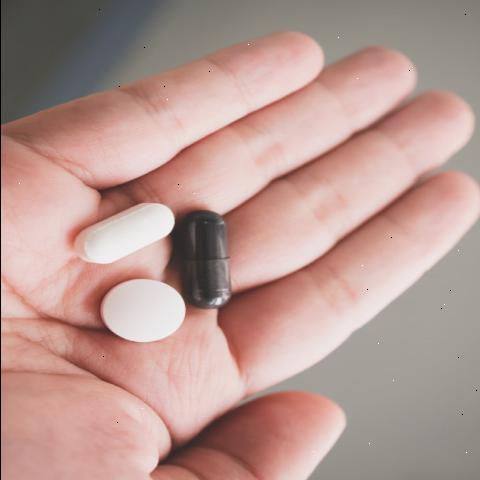Pill: (48, 192, 181, 264), (88, 270, 191, 350)
